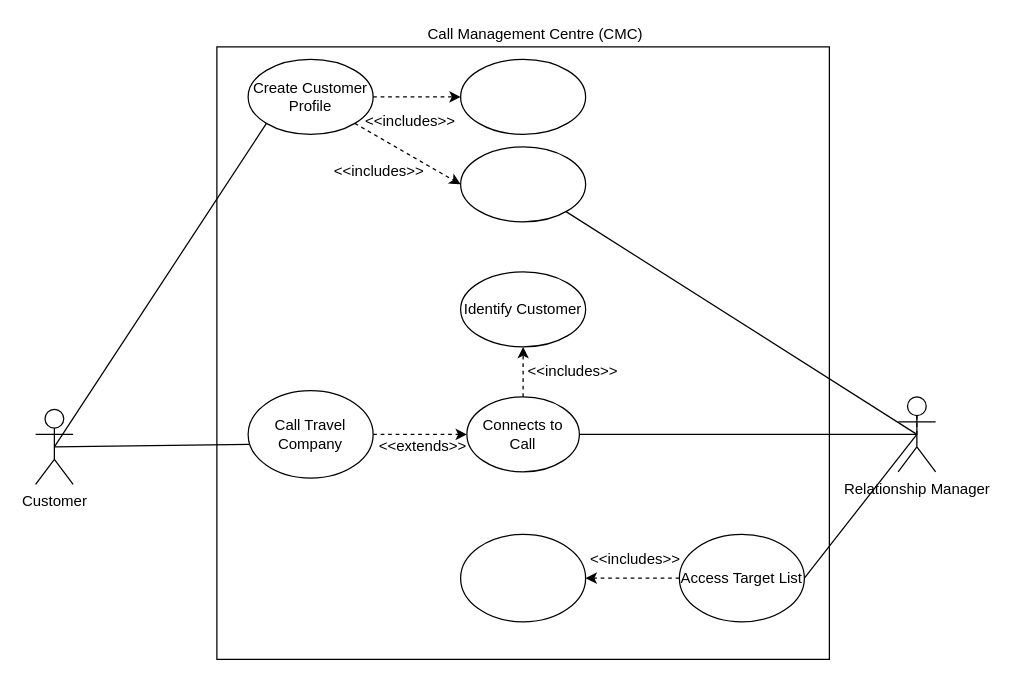
This 1011x681 diagram has some shape labels left out. Each missing label, with the centre of its shape:
"Edit Customer Profile" goes at point (522, 96).
"View Customer Profile" goes at point (522, 184).
"View Script and Guidlines" goes at point (522, 577).
